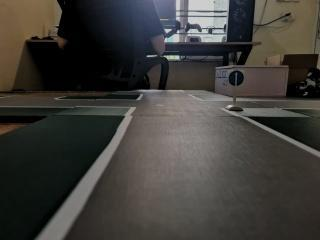straight: (226, 68, 246, 88)
